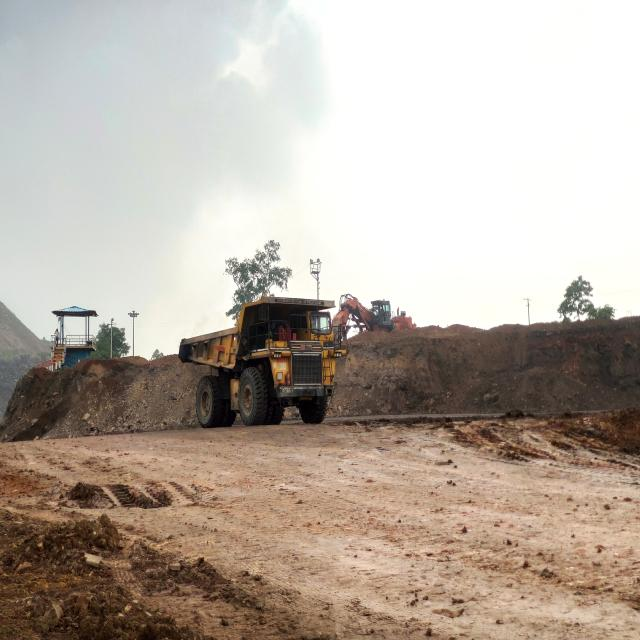dump_truck: (178, 293, 349, 430)
excavator: (333, 291, 416, 333)
